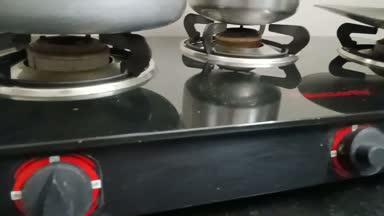noflame_gason: (0, 33, 151, 215)
